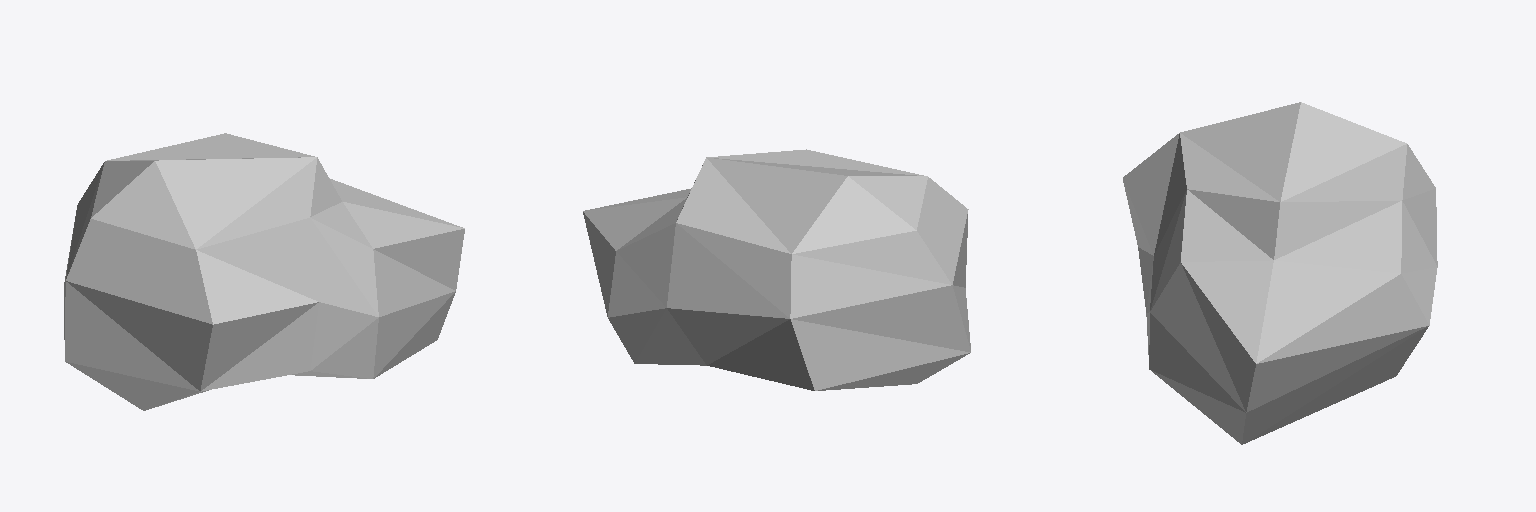
File: buisson_petit.obj
3 views of the same model, side by side, from view 1: azimuth 30°, elevation 25°; view 2: azimuth 150°, elevation 25°; view 3: azimuth 270°, elevation 25° (orthographic).
Visible parts, largest first — view 1: Bushes:lil; view 2: Bushes:lil; view 3: Bushes:lil.
Boxes of the visible parts, x1,y1,x2,y2 form: Bushes:lil: [64, 133, 464, 410]; Bushes:lil: [583, 149, 970, 390]; Bushes:lil: [1123, 102, 1437, 444].
Bounding box in the file's own units: 2 × 1.06 × 1.38.